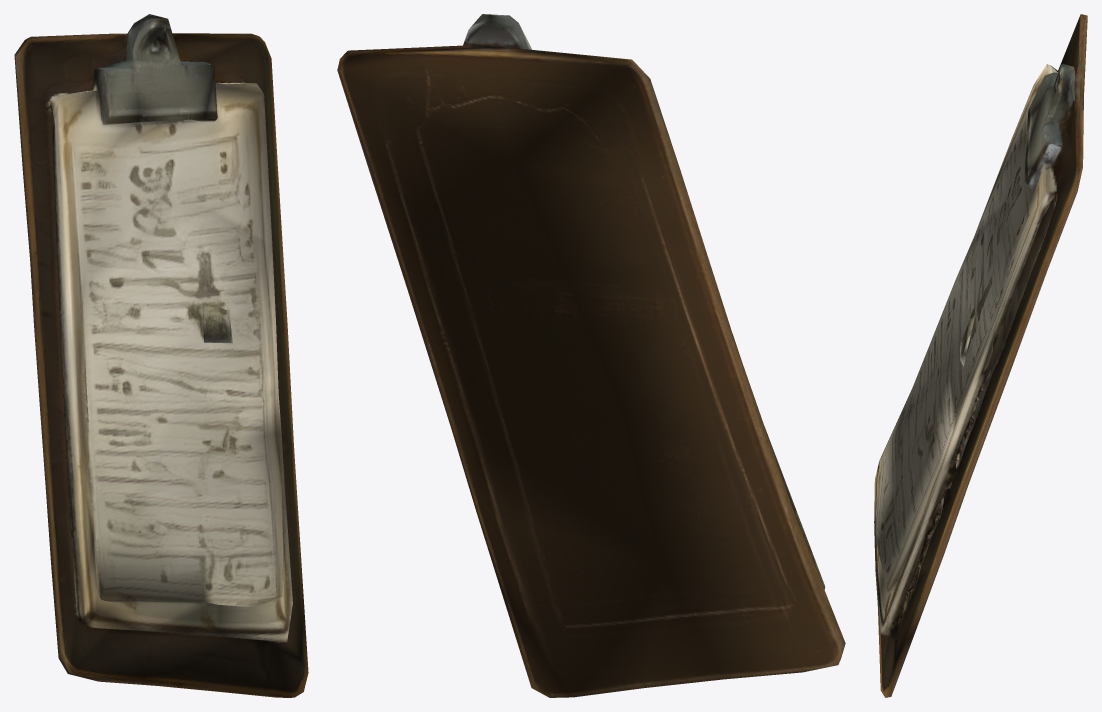
Rendered from old_clipboard.fbx.
The picture shows the model from 3 angles, left to right: view 1: azimuth 30°, elevation 25°; view 2: azimuth 150°, elevation 25°; view 3: azimuth 270°, elevation 25°; orthographic projection. The views are drawn at different scales.
Parts seen in each view (by area): view 1: old_clipboard; view 2: old_clipboard; view 3: old_clipboard.
Boxes of the visible parts, bbox=[...] form: old_clipboard: bbox=[14, 14, 308, 697]; old_clipboard: bbox=[337, 14, 845, 697]; old_clipboard: bbox=[874, 14, 1087, 697].
Size of the model in its own units: 161 by 313 by 99.92.
1 material, 1 textured.
